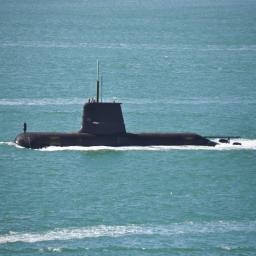submarine: (14, 102, 243, 147)
